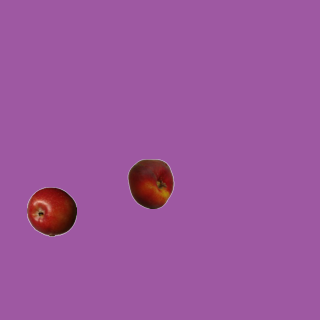Apple Braeburn: (26, 186, 76, 236)
Nectarine Flat: (125, 158, 175, 208)
